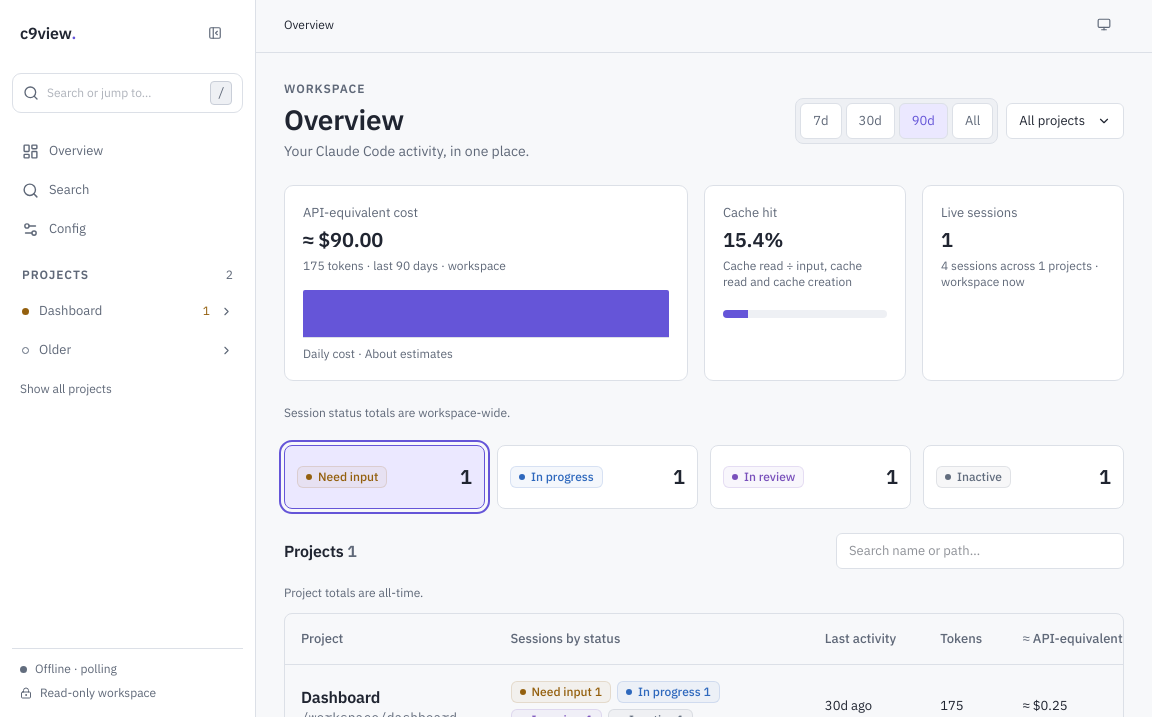
Test: round-trips the need_input status and toggles it off with a native keyboard-operable button
Later steps or results of the test are not shown.
Click the button "Need input 1" at (384, 477), box [284,445,485,509]
(page scrolled)
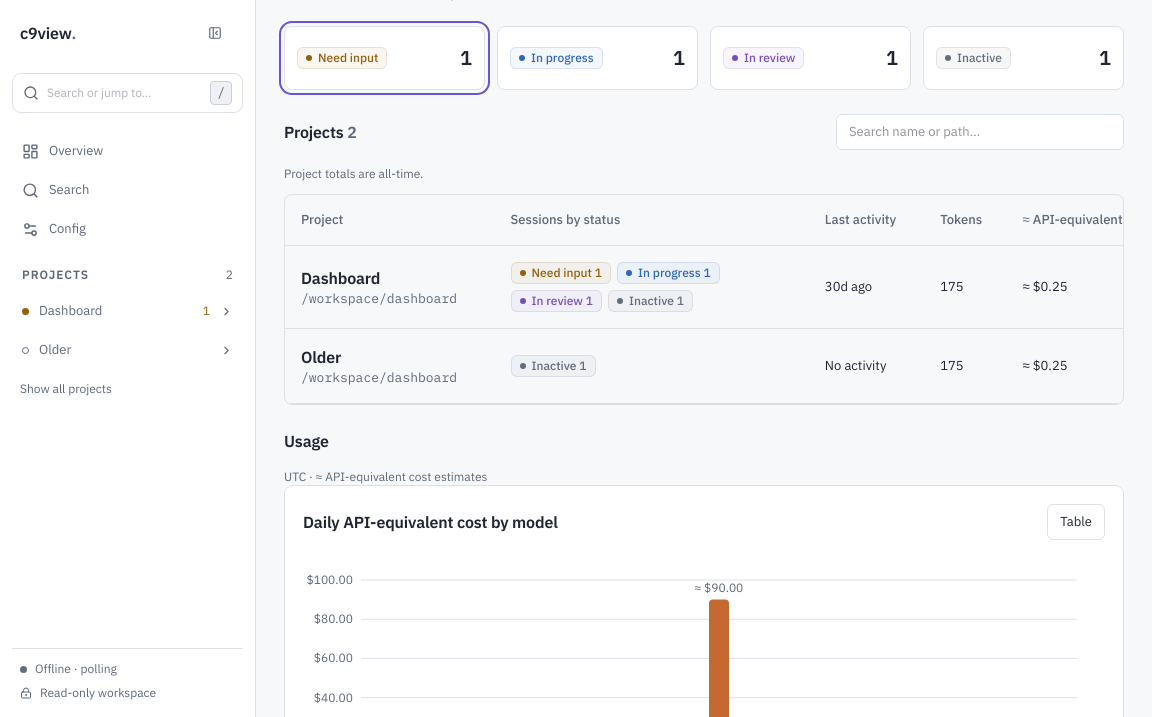
Expected: the link "Older" in the row of "No activity" is shown, [301,347,341,367]
